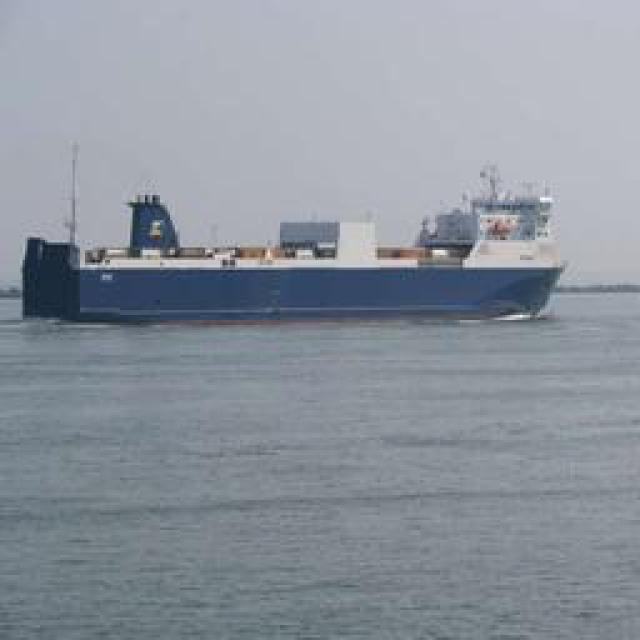Ship: (39, 178, 564, 323)
